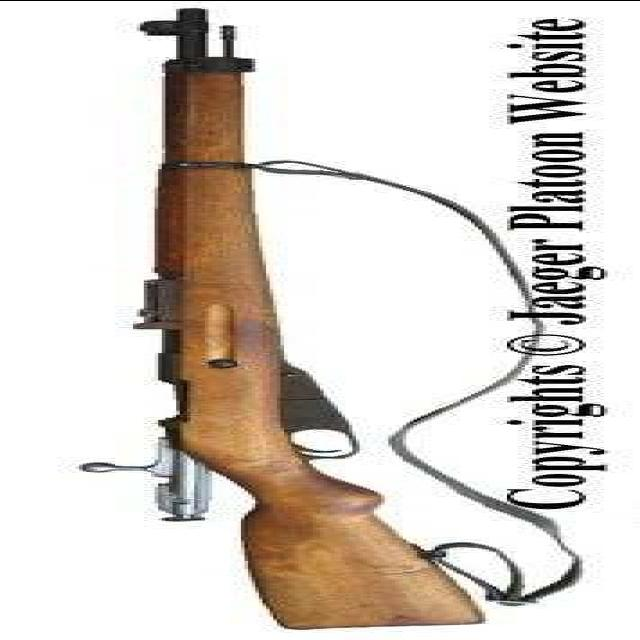heavyweapon: (62, 6, 490, 629)
